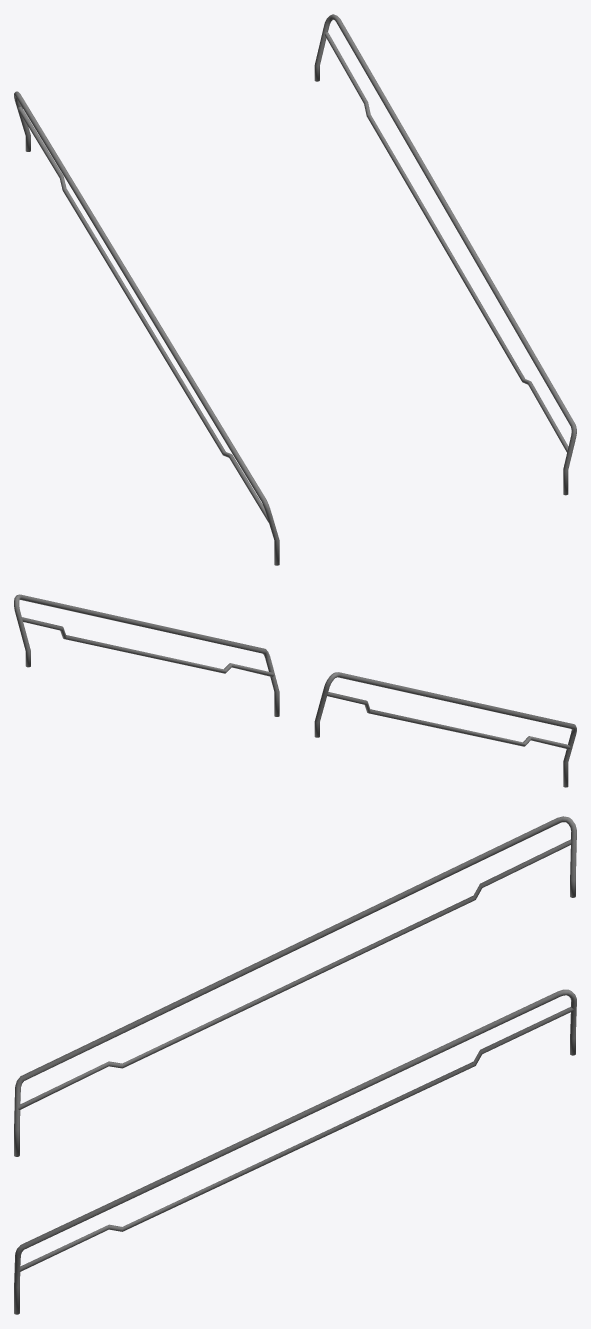
File: q-scifi-mod-platform-rails-4widetall.glb
3 views of the same model, one above another, from view 1: azimuth 30°, elevation 25°; view 2: azimuth 150°, elevation 25°; view 3: azimuth 270°, elevation 25° (orthographic). The views are drawn at different scales.
Visible parts, largest first — view 1: Platform_Rails_4WideTall; view 2: Platform_Rails_4WideTall; view 3: Platform_Rails_4WideTall.
Boxes of the visible parts, <box> form: Platform_Rails_4WideTall: <box>14,14,576,565</box>; Platform_Rails_4WideTall: <box>14,594,576,787</box>; Platform_Rails_4WideTall: <box>14,816,576,1314</box>.
Bounding box in the file's own units: 4.25 × 3.72 × 5.73.
1 material, 1 textured.
